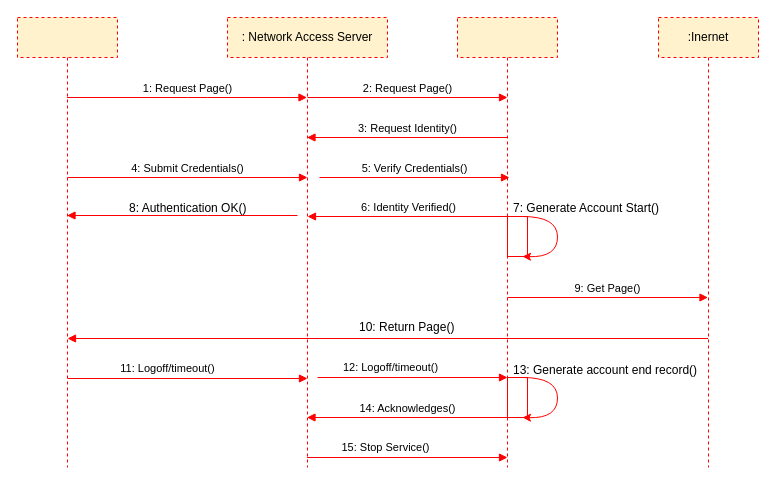
The diagram is 776 pixels wide and 485 high, and some of its shapes have lost their labels. The shapes that lost their labels are listed below. From the top down, each one's box as (x1, y1, x2, y2) in pixels, then its label:
(16, 16, 118, 468): :User
(456, 16, 558, 468): : AAA Server
